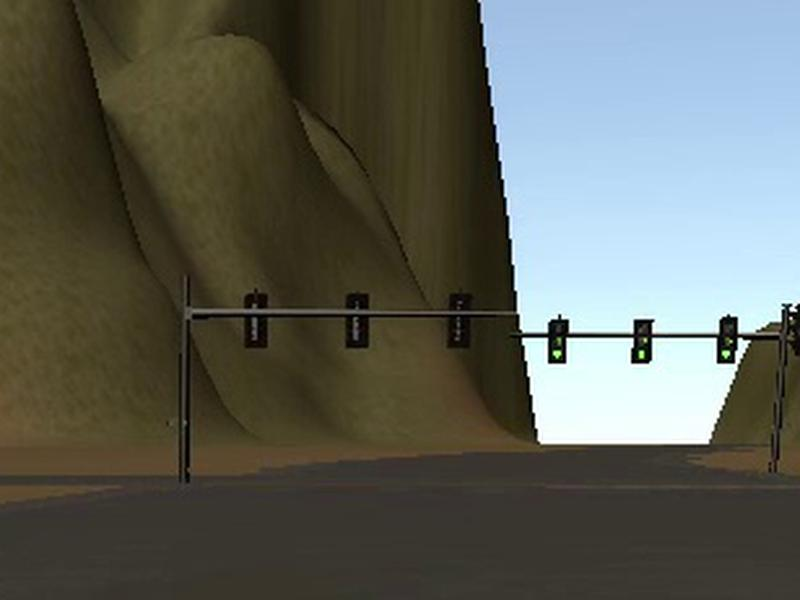Green: (631, 318, 653, 364), (716, 317, 738, 363), (547, 319, 569, 364)
